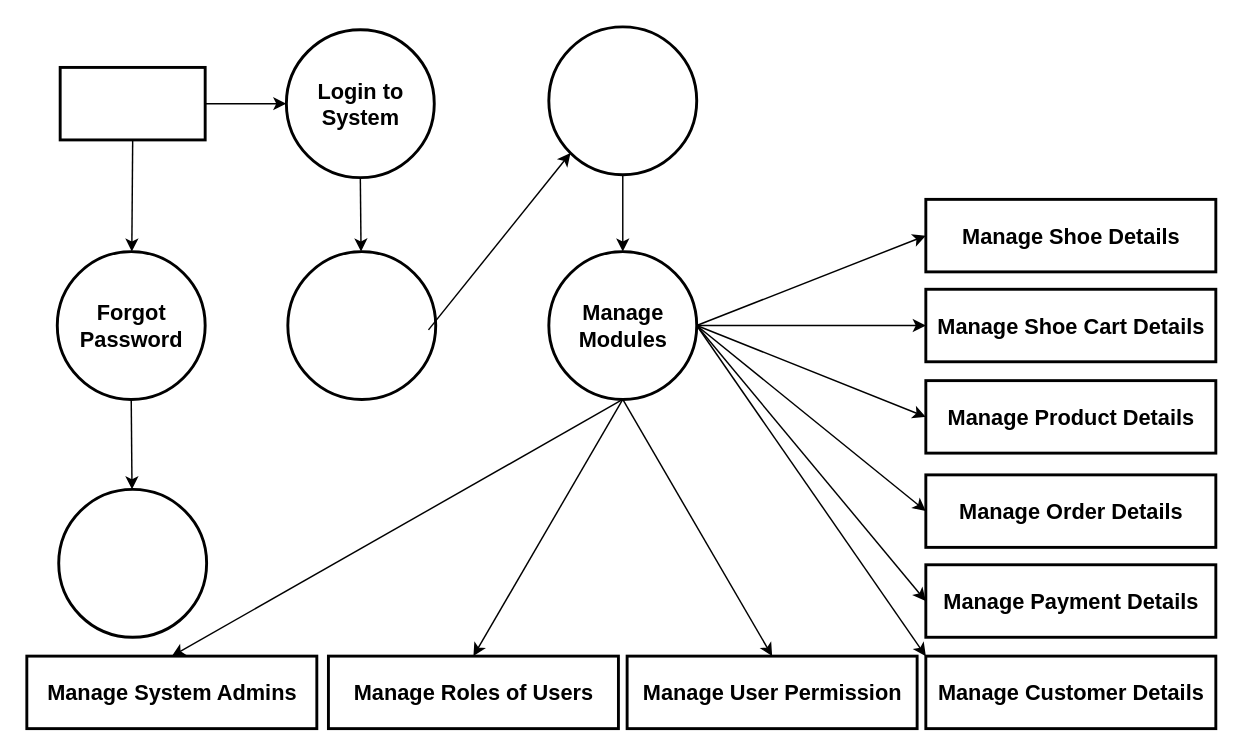
The diagram is 1241 pixels wide and 754 high, and some of its shapes have lost their labels. Here are the shapes that lost their labels. From the top down, the centre of each, then its label:
At [132,103]: "Admin".
At [622,100]: "Change Role of Access".
At [361,324]: "Check Credentials".
At [132,562]: "Send Email to Users".
